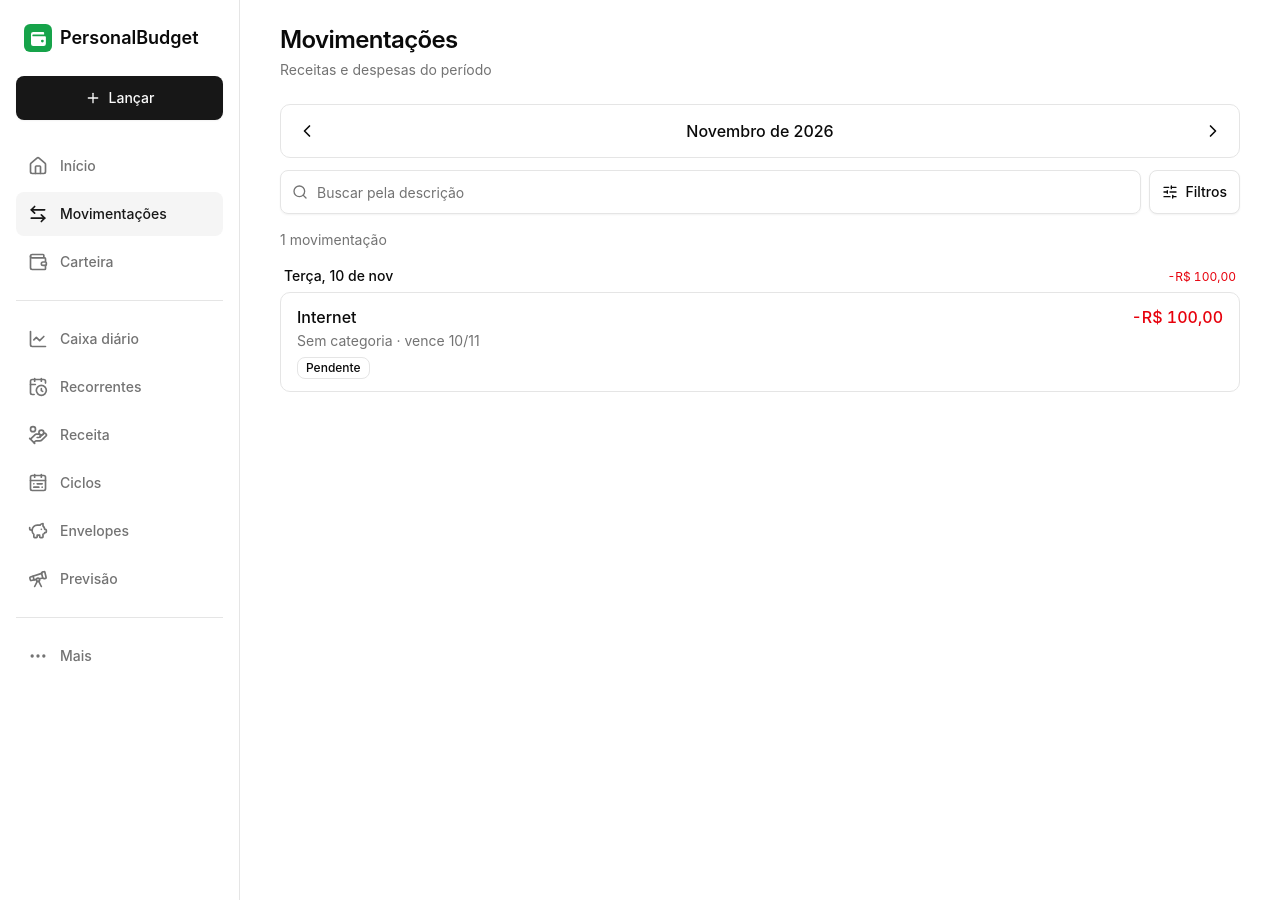
MovementSheet › should show the message of a 409 when paying
What coordinates should you click on to do the following:
click the button "Internet Sem categoria · vence 10/11 Pendente -R$ 100,00"
I would click on:
 (327, 317)
Its box is left=281, top=293, right=1239, bottom=391.
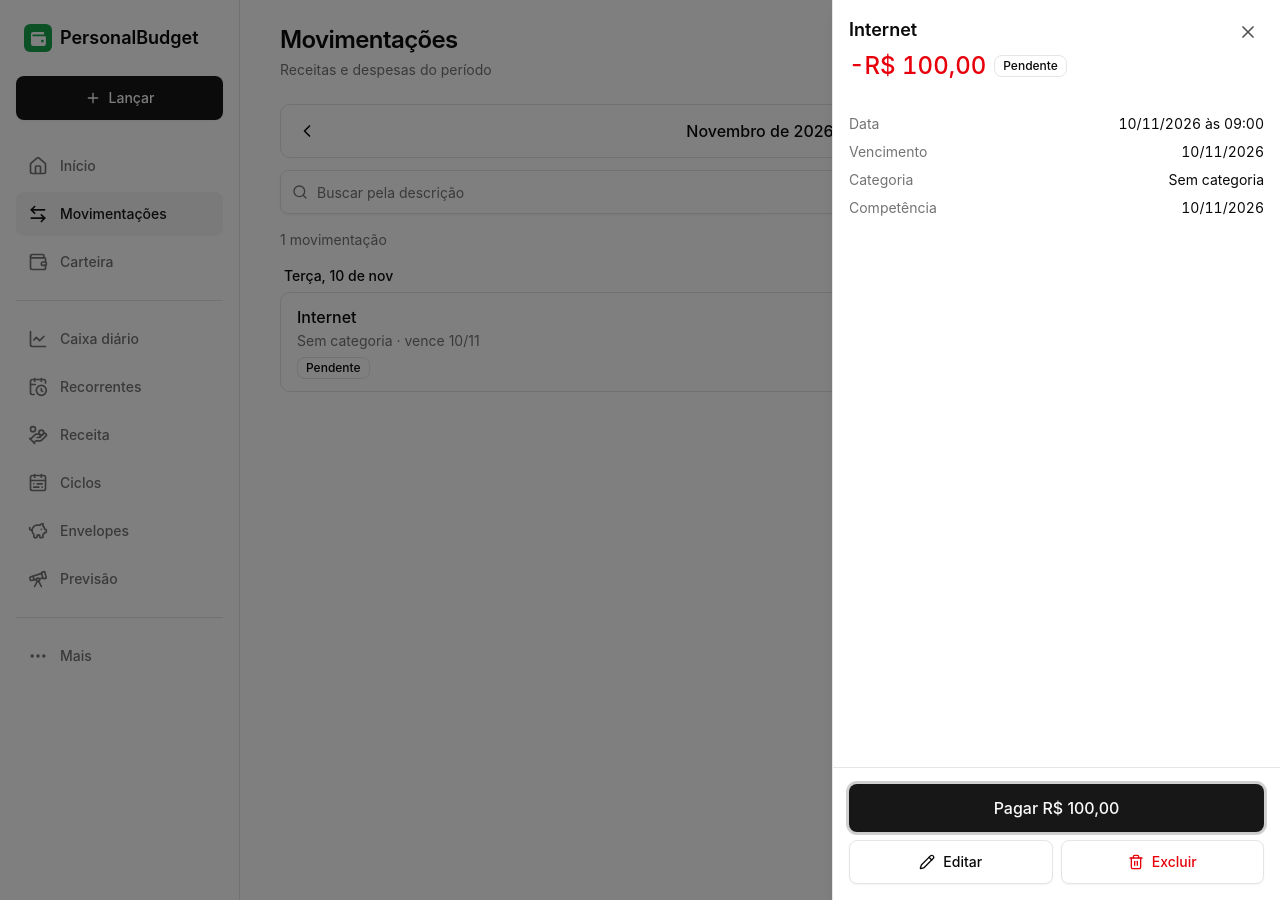
What coordinates should you click on to do the following:
click the button "Pagar R$ 100,00"
I would click on:
 (1056, 808)
Its box is left=849, top=784, right=1264, bottom=832.
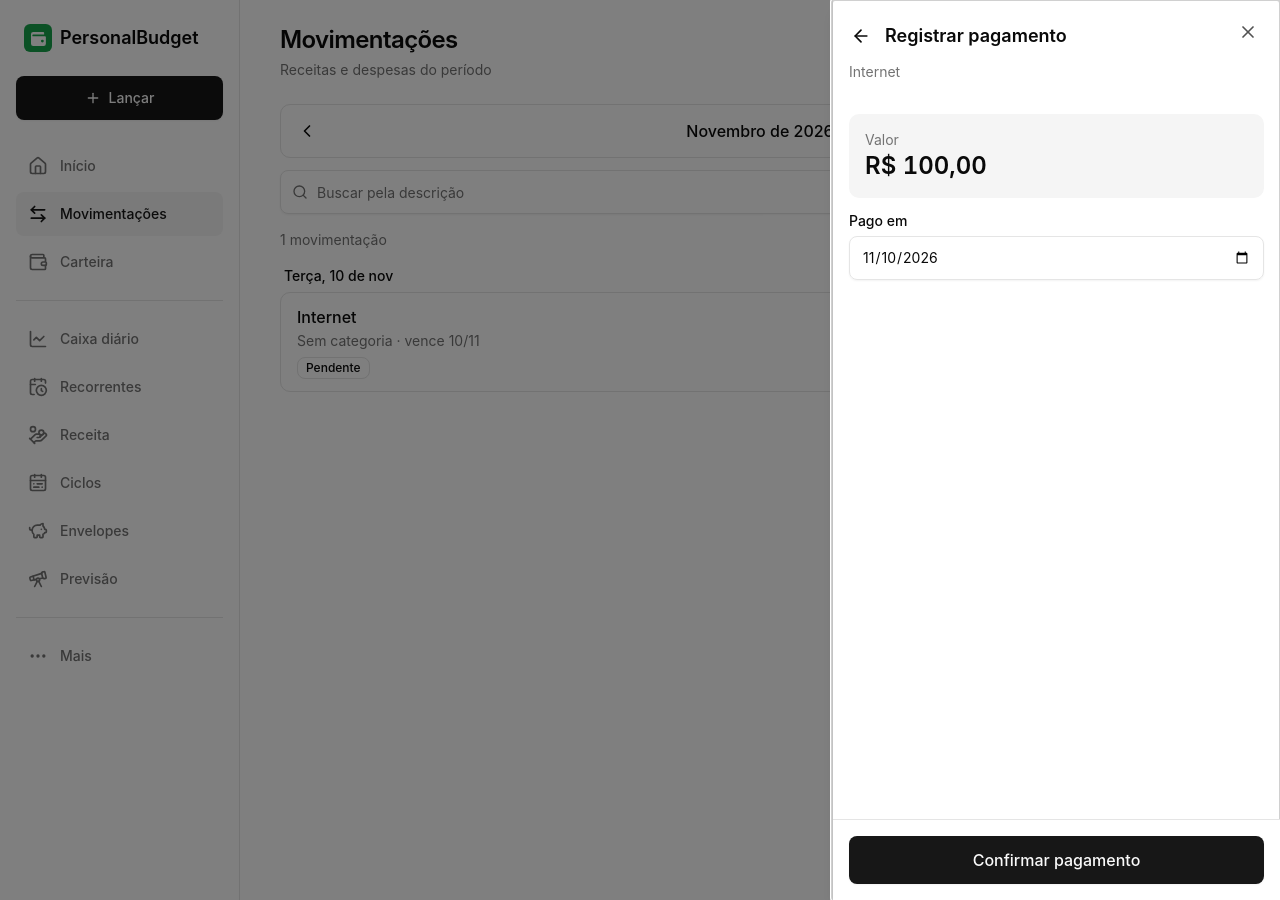
What coordinates should you click on to do the following:
click the button "Confirmar pagamento"
I would click on:
 (1056, 860)
Its box is left=849, top=836, right=1264, bottom=884.
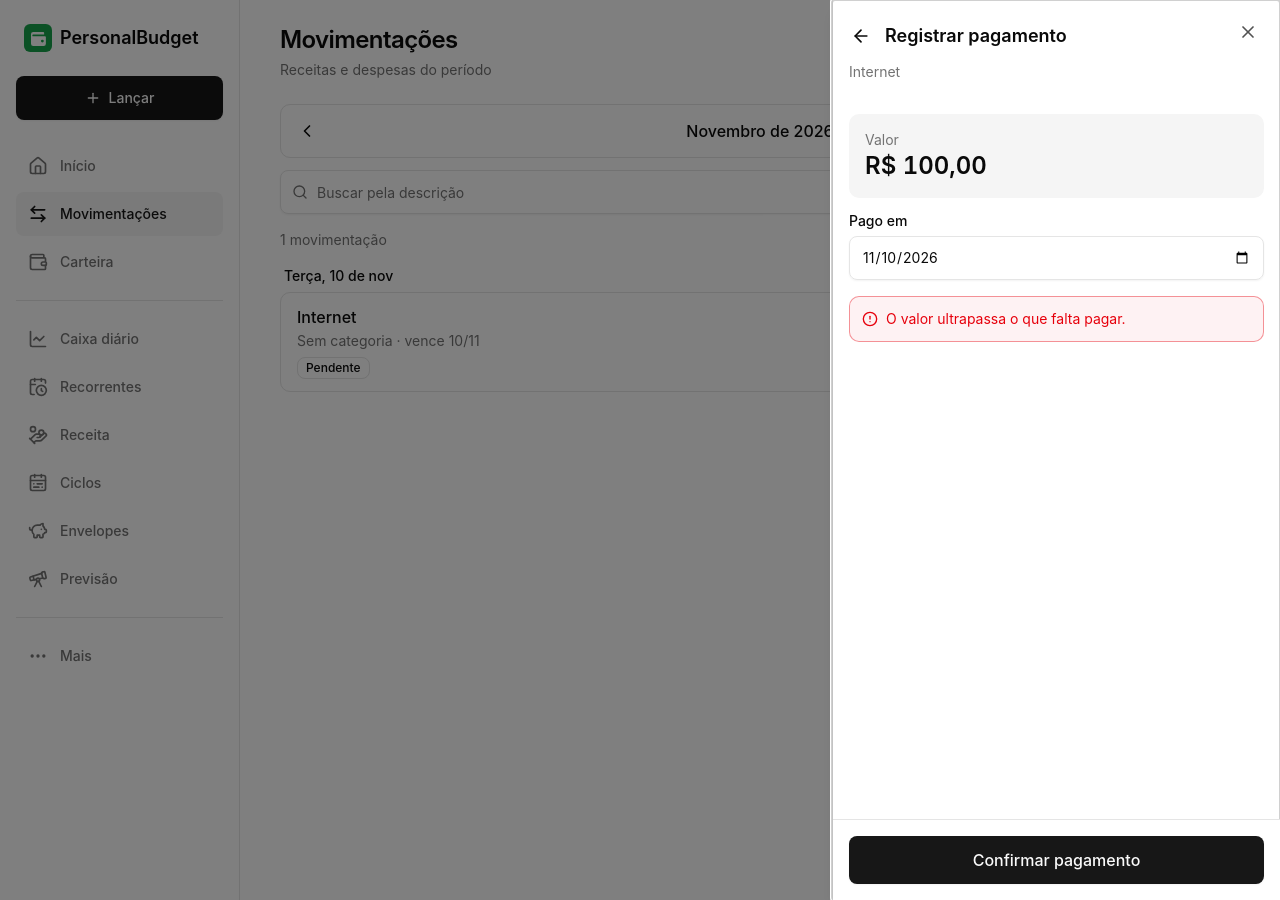
Check: the text "O valor ultrapassa o que falta pagar." is shown, box left=886, top=309, right=1126, bottom=329
